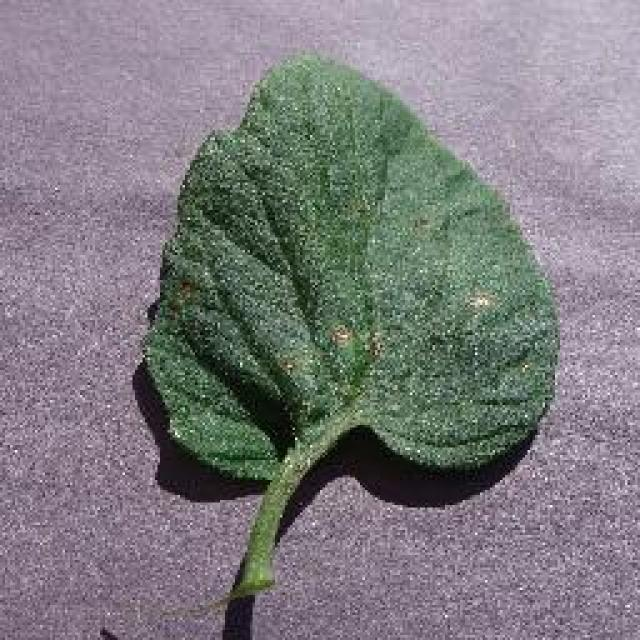Tomato___Target_Spot: (142, 58, 555, 598)
